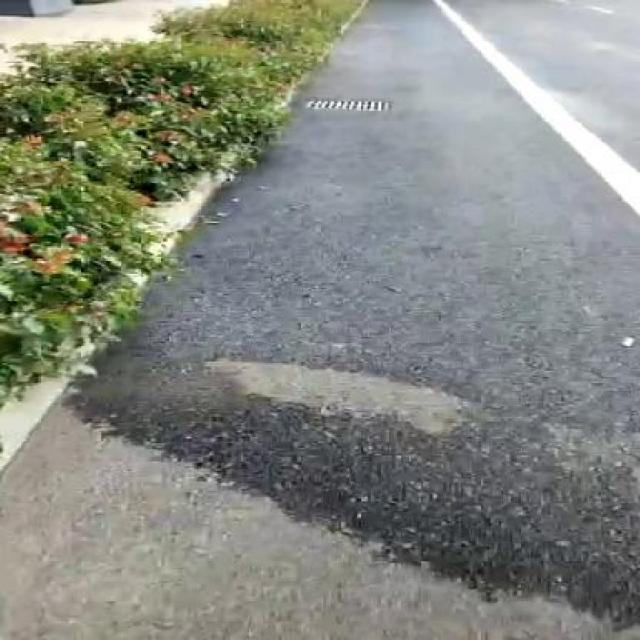Manhole: (301, 94, 397, 115)
